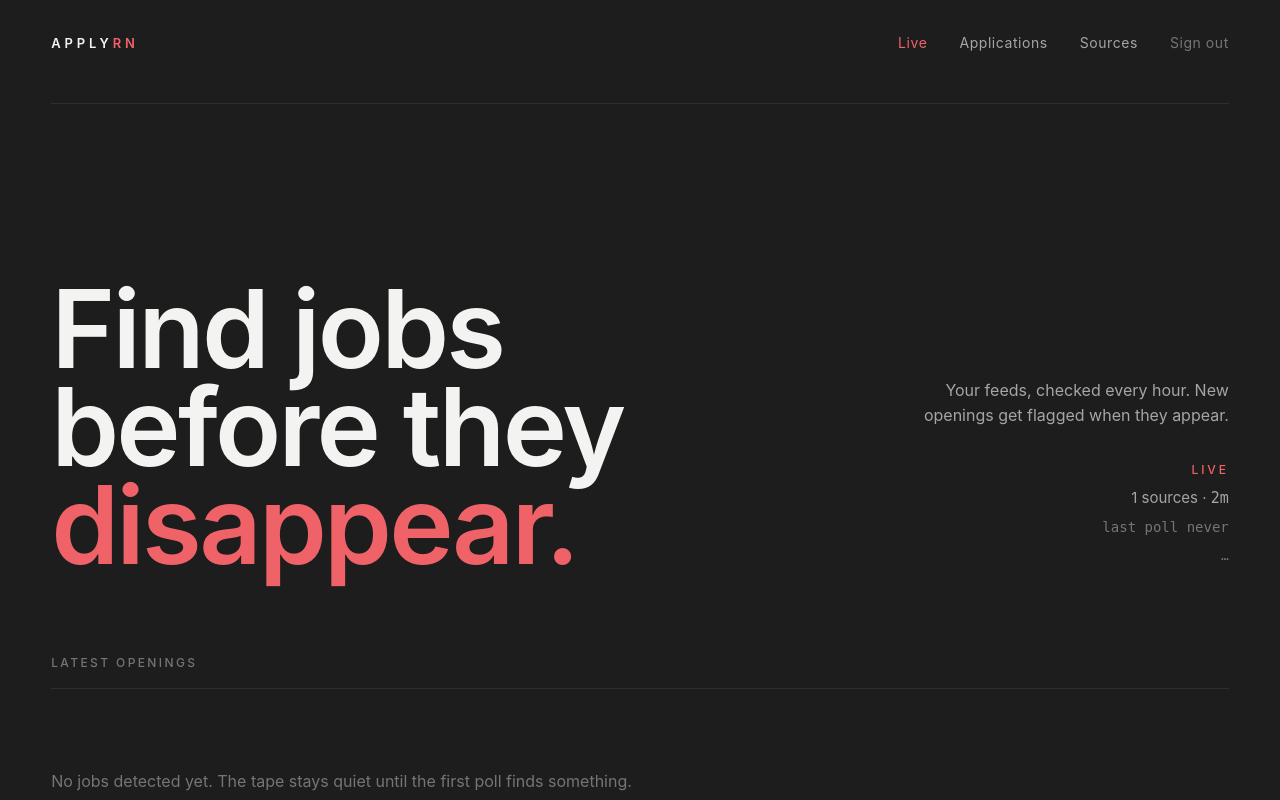
Test: App tape › shows tracked applications with status and latency
Click the button "Applications". click: (1004, 42)
box: [959,32,1048,53]
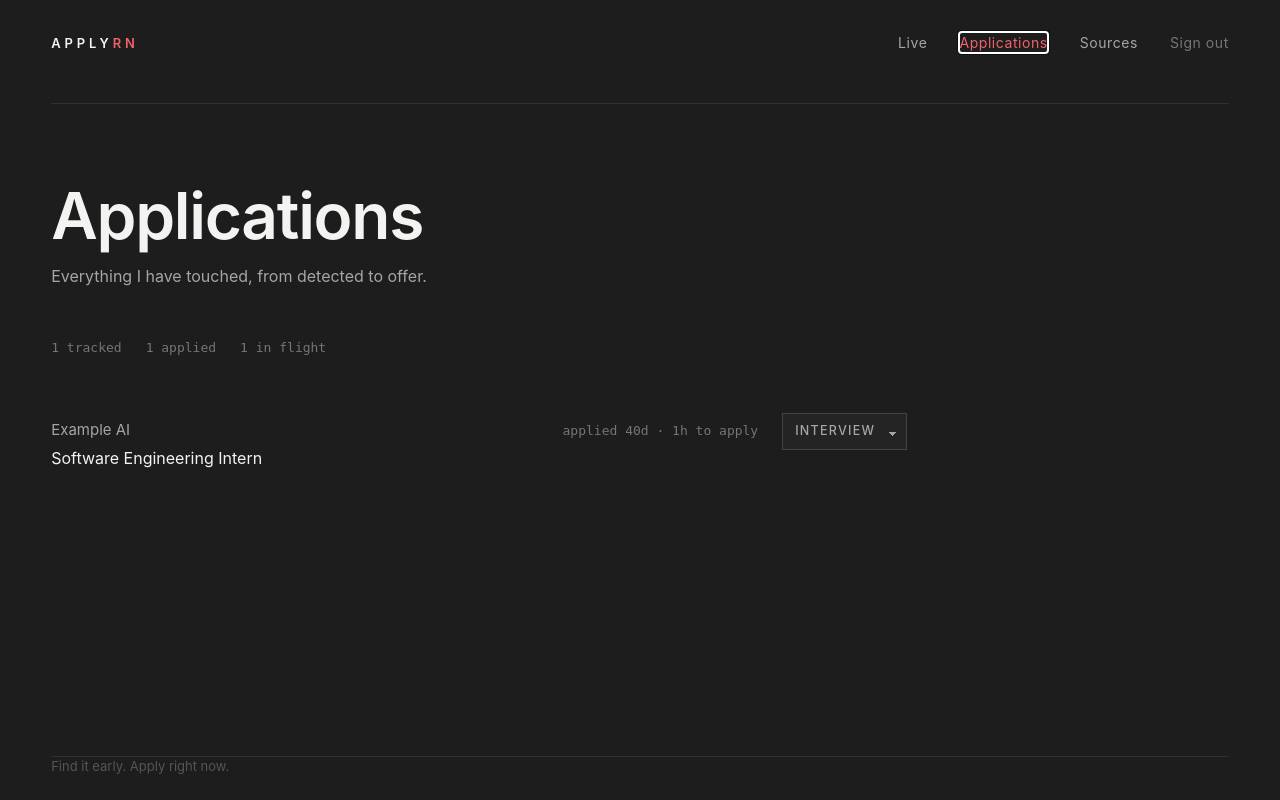
expect the text "Software Engineering Intern" is shown: met, box [51,448,262,468]
expect the text "Example AI" is shown: met, box [51,420,130,439]
expect the text "applied 40d · 1h to apply" is shown: met, box [562,423,758,438]
